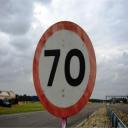speed_limit_70: (38, 29, 92, 107)
